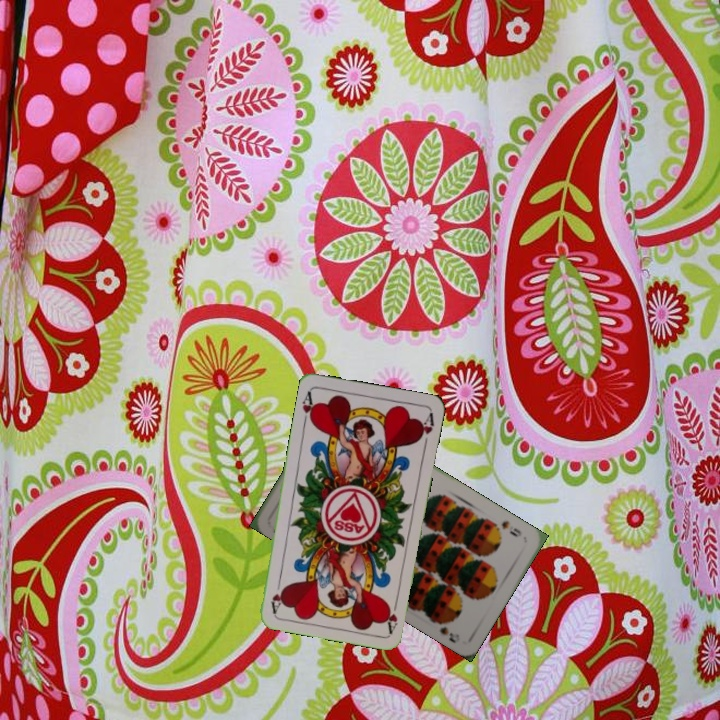HA: (298, 387, 318, 427), (381, 595, 401, 635)
S9: (497, 516, 524, 540)
